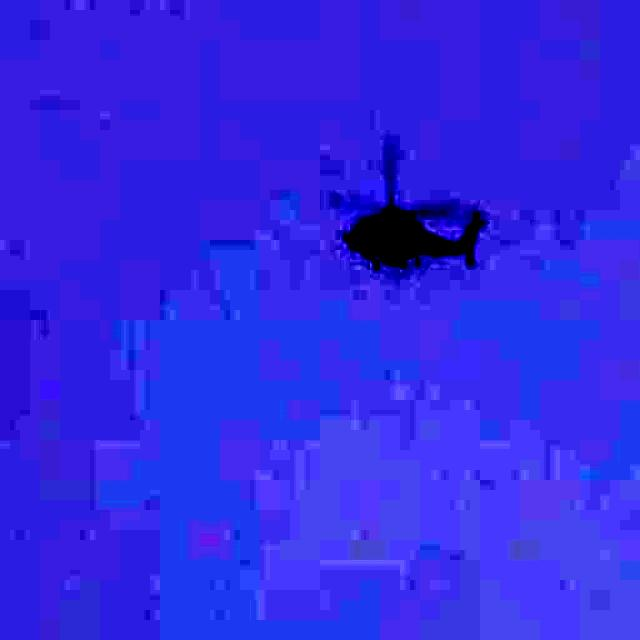drone: (332, 136, 491, 318)
